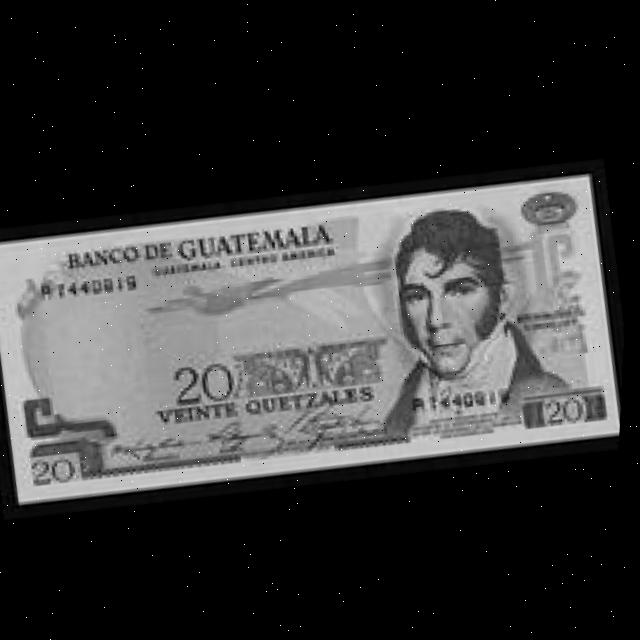banknote: (0, 124, 635, 537)
